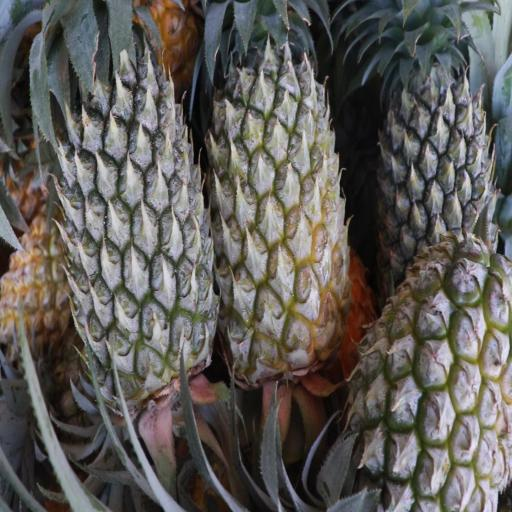------------------------------: (211, 12, 352, 366), (357, 242, 512, 512)
Pineapple - v8 v1: (0, 204, 80, 355)
